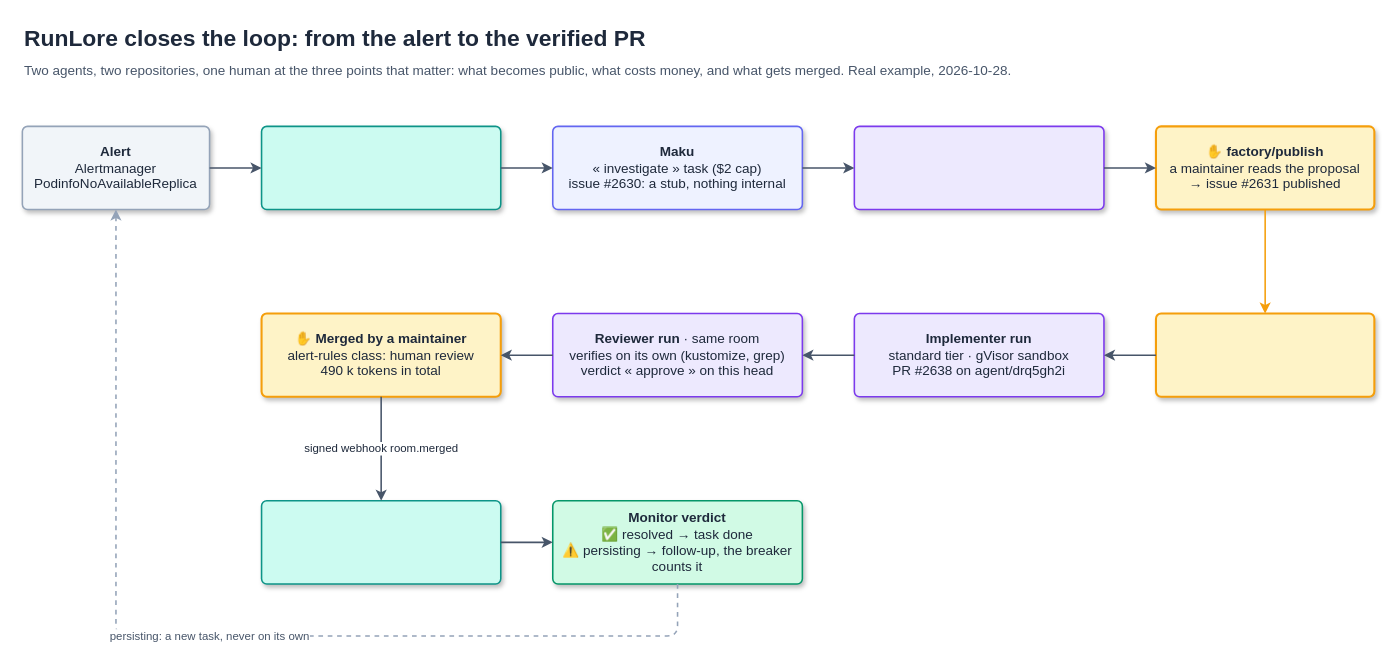
This 1400x662 diagram has some shape labels left out. The shapes that lost their labels are listed below. From the top down, each one's centre as x and y in pixels, then its label:
(x=381, y=169): RunLore investigates verdict action_suggested (0.92) API client: POST /v1/tasks
(x=980, y=169): Triager run read-only · 206 k tokens · 3 min proposes the fix in its room
(x=1265, y=356): ✋ factory/ready a maintainer reads the issue and authorises one run's spend
(x=381, y=543): Soak · 30 min RunLore asks Alertmanager and posts its verdict to Maku
